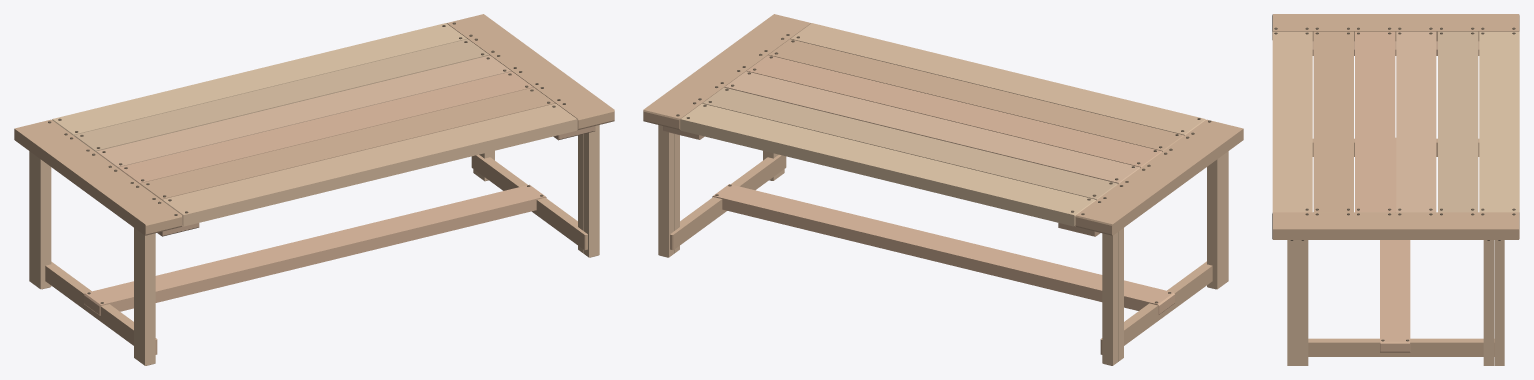
File: Proto_WoodenTable_03.fbx
3 views of the same model, side by side, from view 1: azimuth 30°, elevation 25°; view 2: azimuth 150°, elevation 25°; view 3: azimuth 270°, elevation 25° (orthographic). The views are drawn at different scales.
Visible parts, largest first — view 1: WoodenTable_03; view 2: WoodenTable_03; view 3: WoodenTable_03.
Part boxes in pixels (x1=…): WoodenTable_03: x1=14, y1=14, x2=614, y2=365; WoodenTable_03: x1=643, y1=14, x2=1243, y2=365; WoodenTable_03: x1=1272, y1=14, x2=1519, y2=365.
Bounding box in the file's own units: 30.37 × 9.27 × 14.74.
